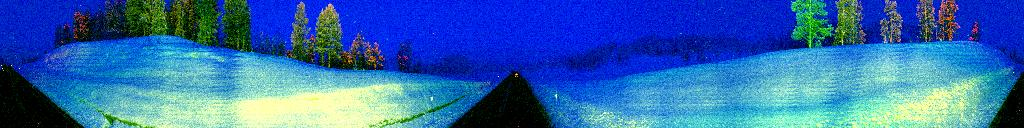pole: (428, 88, 436, 128), (554, 86, 560, 103)
